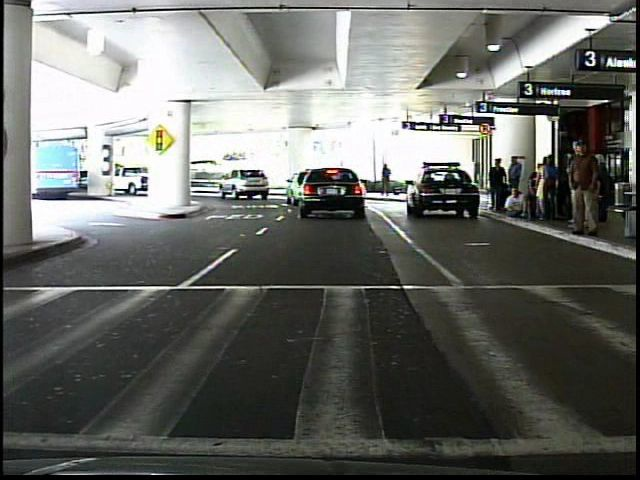person: (566, 137, 605, 242), (485, 158, 508, 215), (380, 163, 395, 198)
